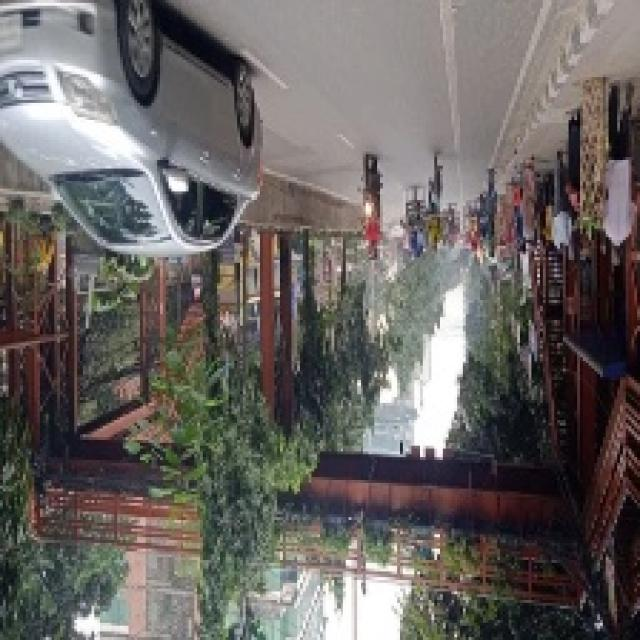bike: (356, 147, 386, 234)
car: (3, 25, 269, 270)
rickshaw: (403, 187, 428, 259)
